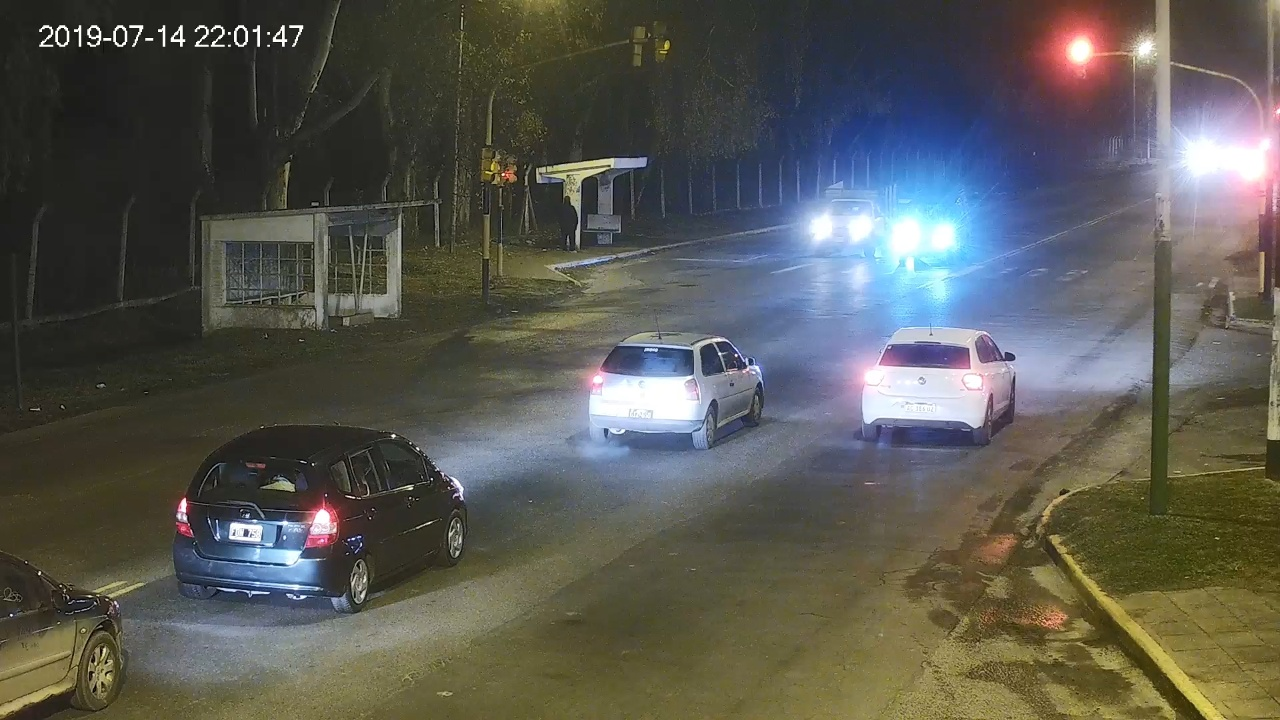car: (175, 424, 467, 612), (1, 549, 123, 719), (588, 332, 764, 449), (861, 327, 1017, 444)
traffic light: (1071, 39, 1088, 79)
